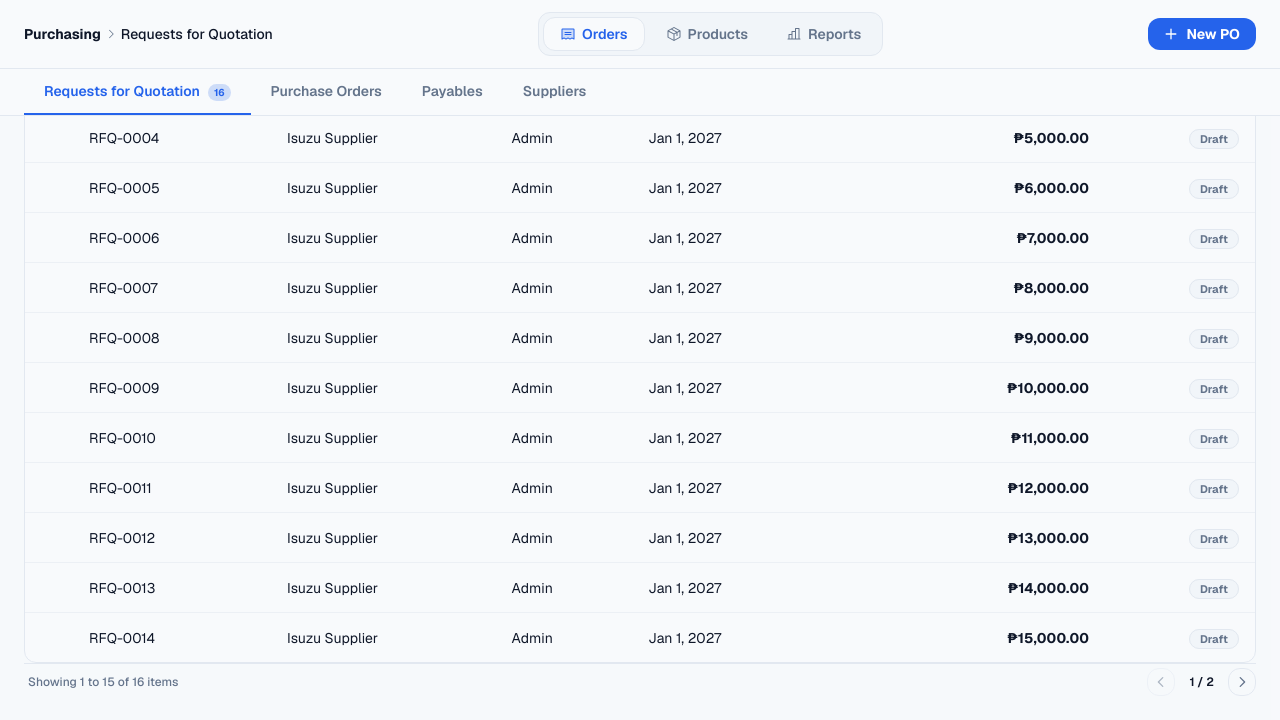
PurchasingModule pagination › navigates to page 2 via Next and then back to page 1 via Prev
The image size is (1280, 720).
(page scrolled)
Expected: the text "1 / 2" is shown, [1189,674,1214,690]
What coordinates should you click on to do the following:
click the button named "Next page"
I would click on:
 (1242, 682)
Its box is [1228,668,1256,696].
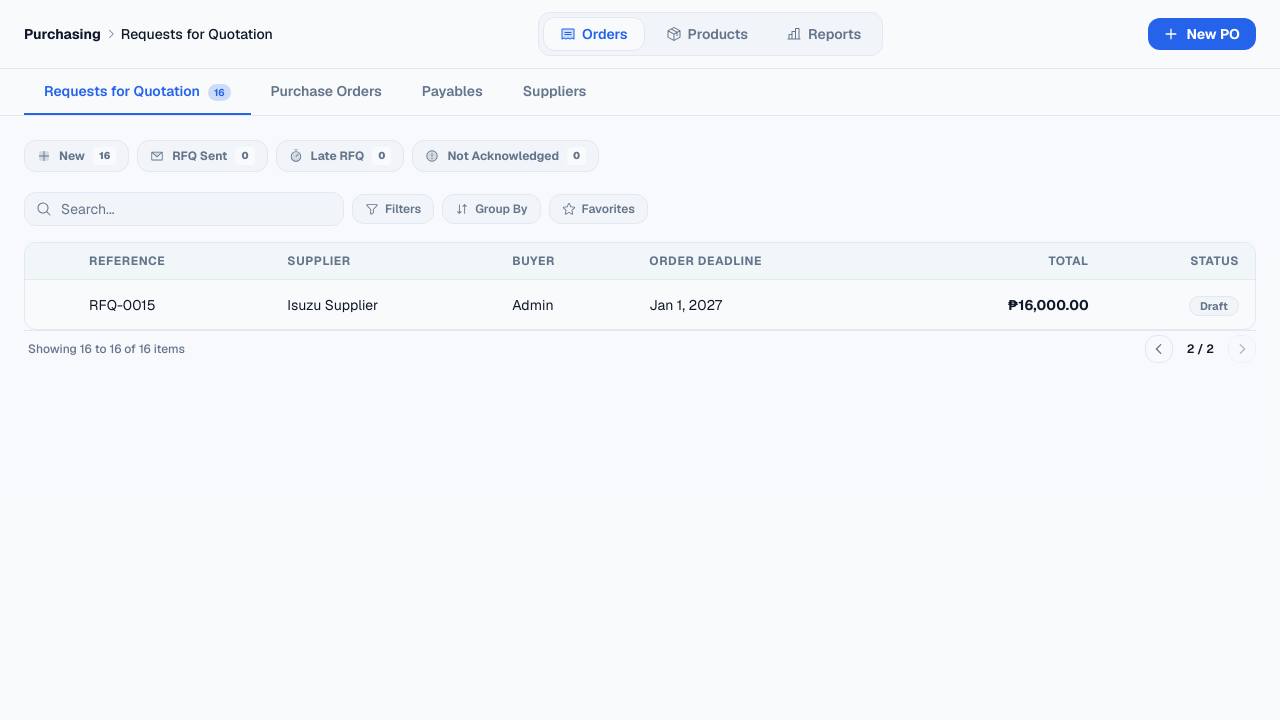
Expected: the button named "Next page" is disabled, [1228,335,1256,363]
Result: the text "2 / 2" is shown at [1187,341,1214,357]
Result: the text "Showing 16 to 16 of 16 items" is shown at [24,341,185,357]
What coordinates should you click on to do the following:
click the button named "Previous page"
I would click on:
 (1159, 349)
Its box is [1145,335,1173,363].
(page scrolled)
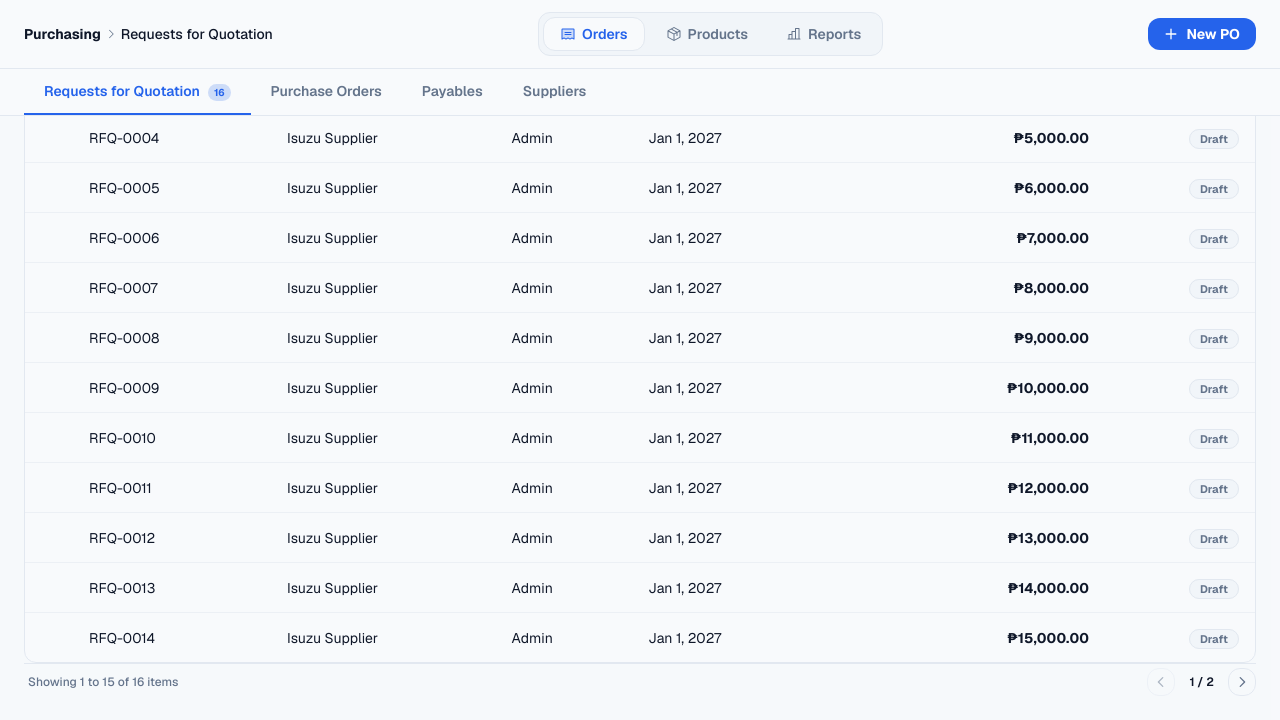
Expected: the button named "Previous page" is disabled, [1147,668,1175,696]
Result: the text "1 / 2" is shown at [1189,674,1214,690]
